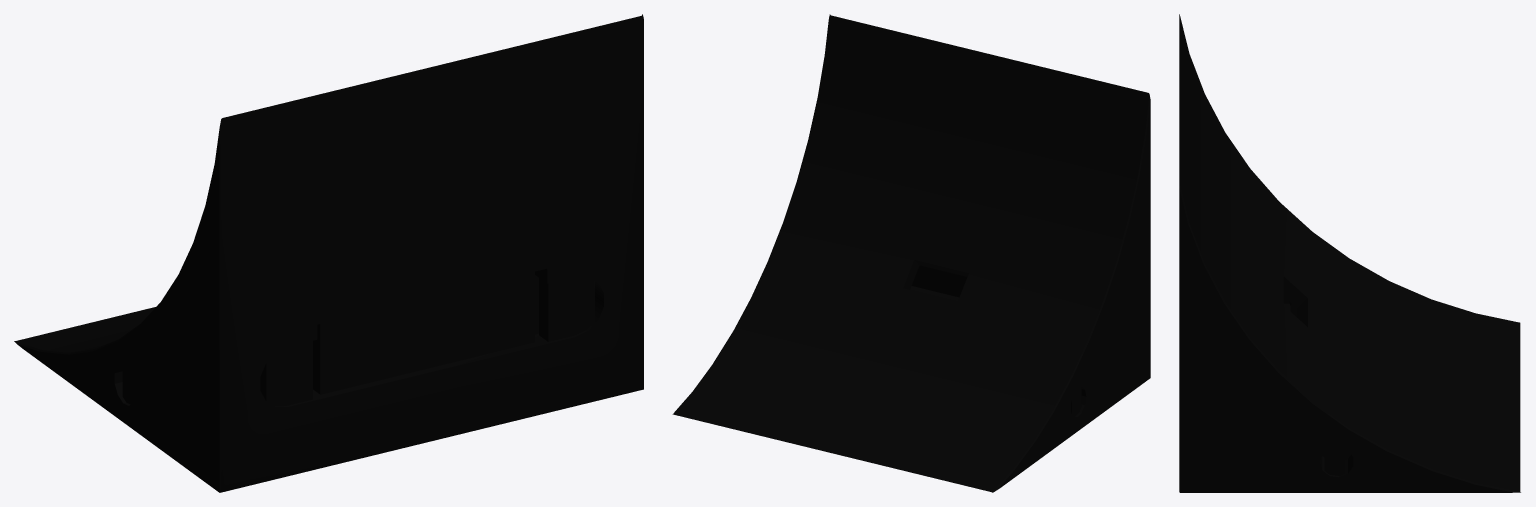
Rendered from p_jelob.fbx.
The picture shows the model from 3 angles, left to right: view 1: azimuth 30°, elevation 25°; view 2: azimuth 150°, elevation 25°; view 3: azimuth 270°, elevation 25°; orthographic projection. The views are drawn at different scales.
Parts seen in each view (by area): view 1: jelob.001; view 2: jelob.001; view 3: jelob.001.
Boxes of the visible parts, <box> form: jelob.001: <box>14,14,643,492</box>; jelob.001: <box>672,14,1150,492</box>; jelob.001: <box>1179,14,1520,492</box>.
Size of the model in its own units: 5.9 by 5 by 5.
Materials: 1 (1 with a texture image).
